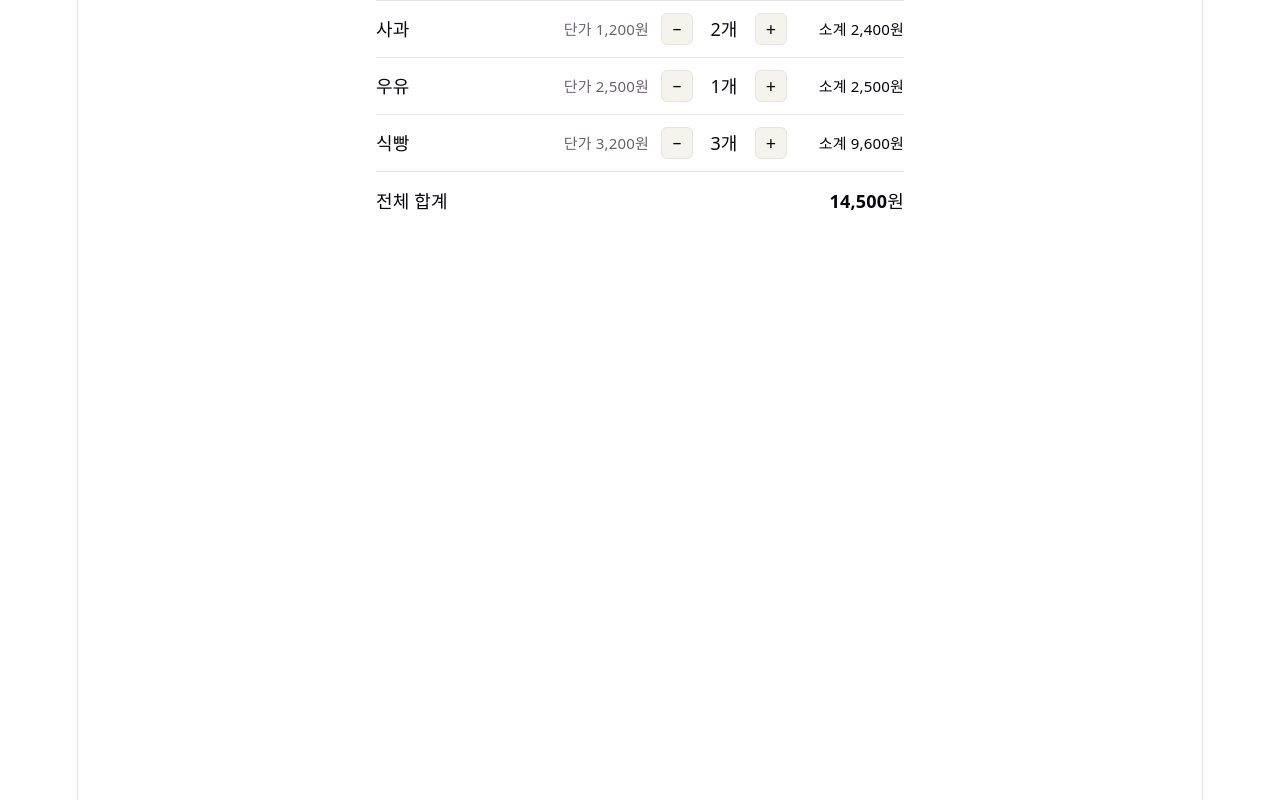
Test: CartList › + 를 누르면 그 줄의 수량이 1 오르고 소계·합계가 따라 오른다 (S7)
This screenshot has width=1280, height=800.
Click the button "+" in the row of "사과".
click(771, 29)  # box [755,13,787,45]
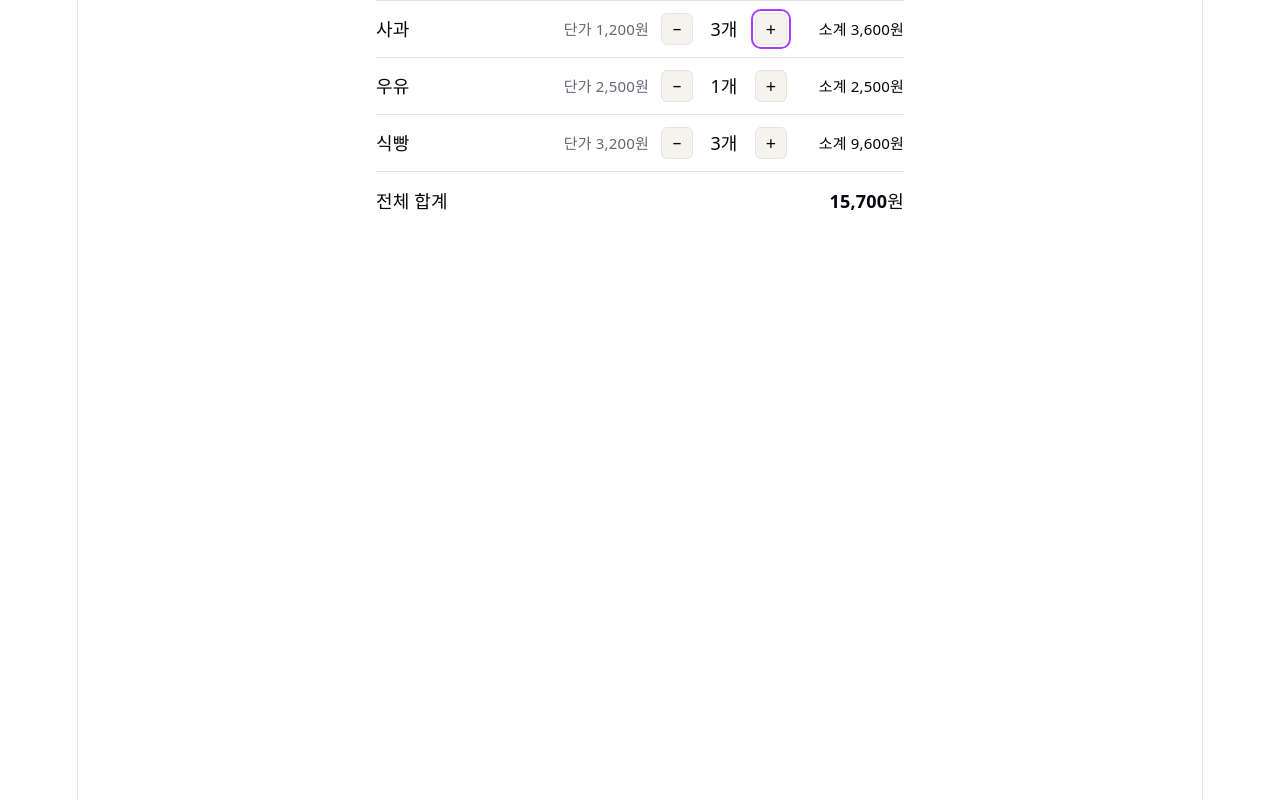
Result: the text "3개" in the row of "사과" is shown at [710,17,738,41]
Result: the text "소계 3,600원" is shown at [819,19,904,39]
Result: the text "15,700원" is shown at [830,188,904,214]
